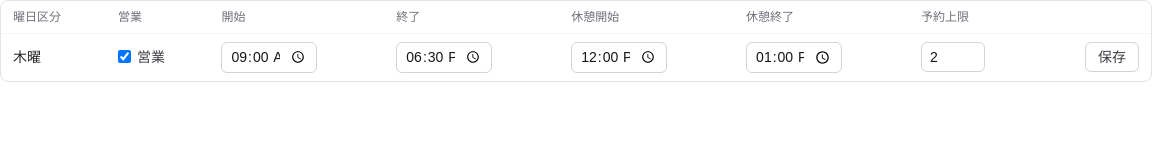
Scenario: BusinessHourEditor: 保存操作で Server Action を呼ぶ › Server Action が VALIDATION_ERROR を返すとエラーメッセージを表示する
Click the button "保存" at [1112, 57], box [1085, 42, 1139, 72]
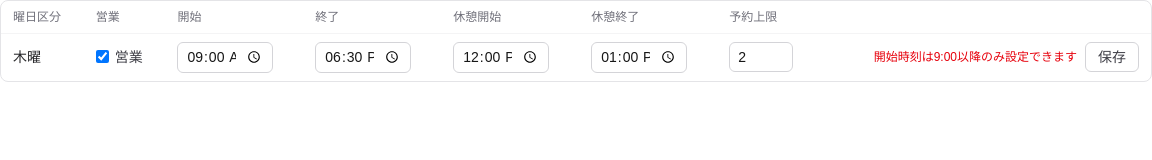
Result: the text "開始時刻は9:00以降のみ設定できます" is shown at [874, 49, 1077, 65]
